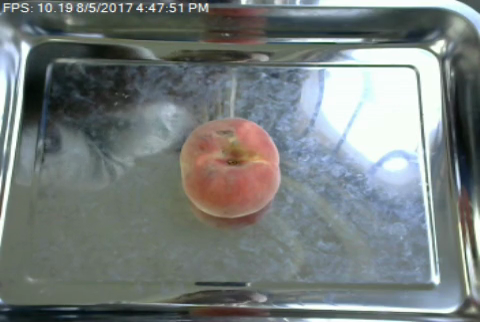Peach: (179, 116, 279, 217)
